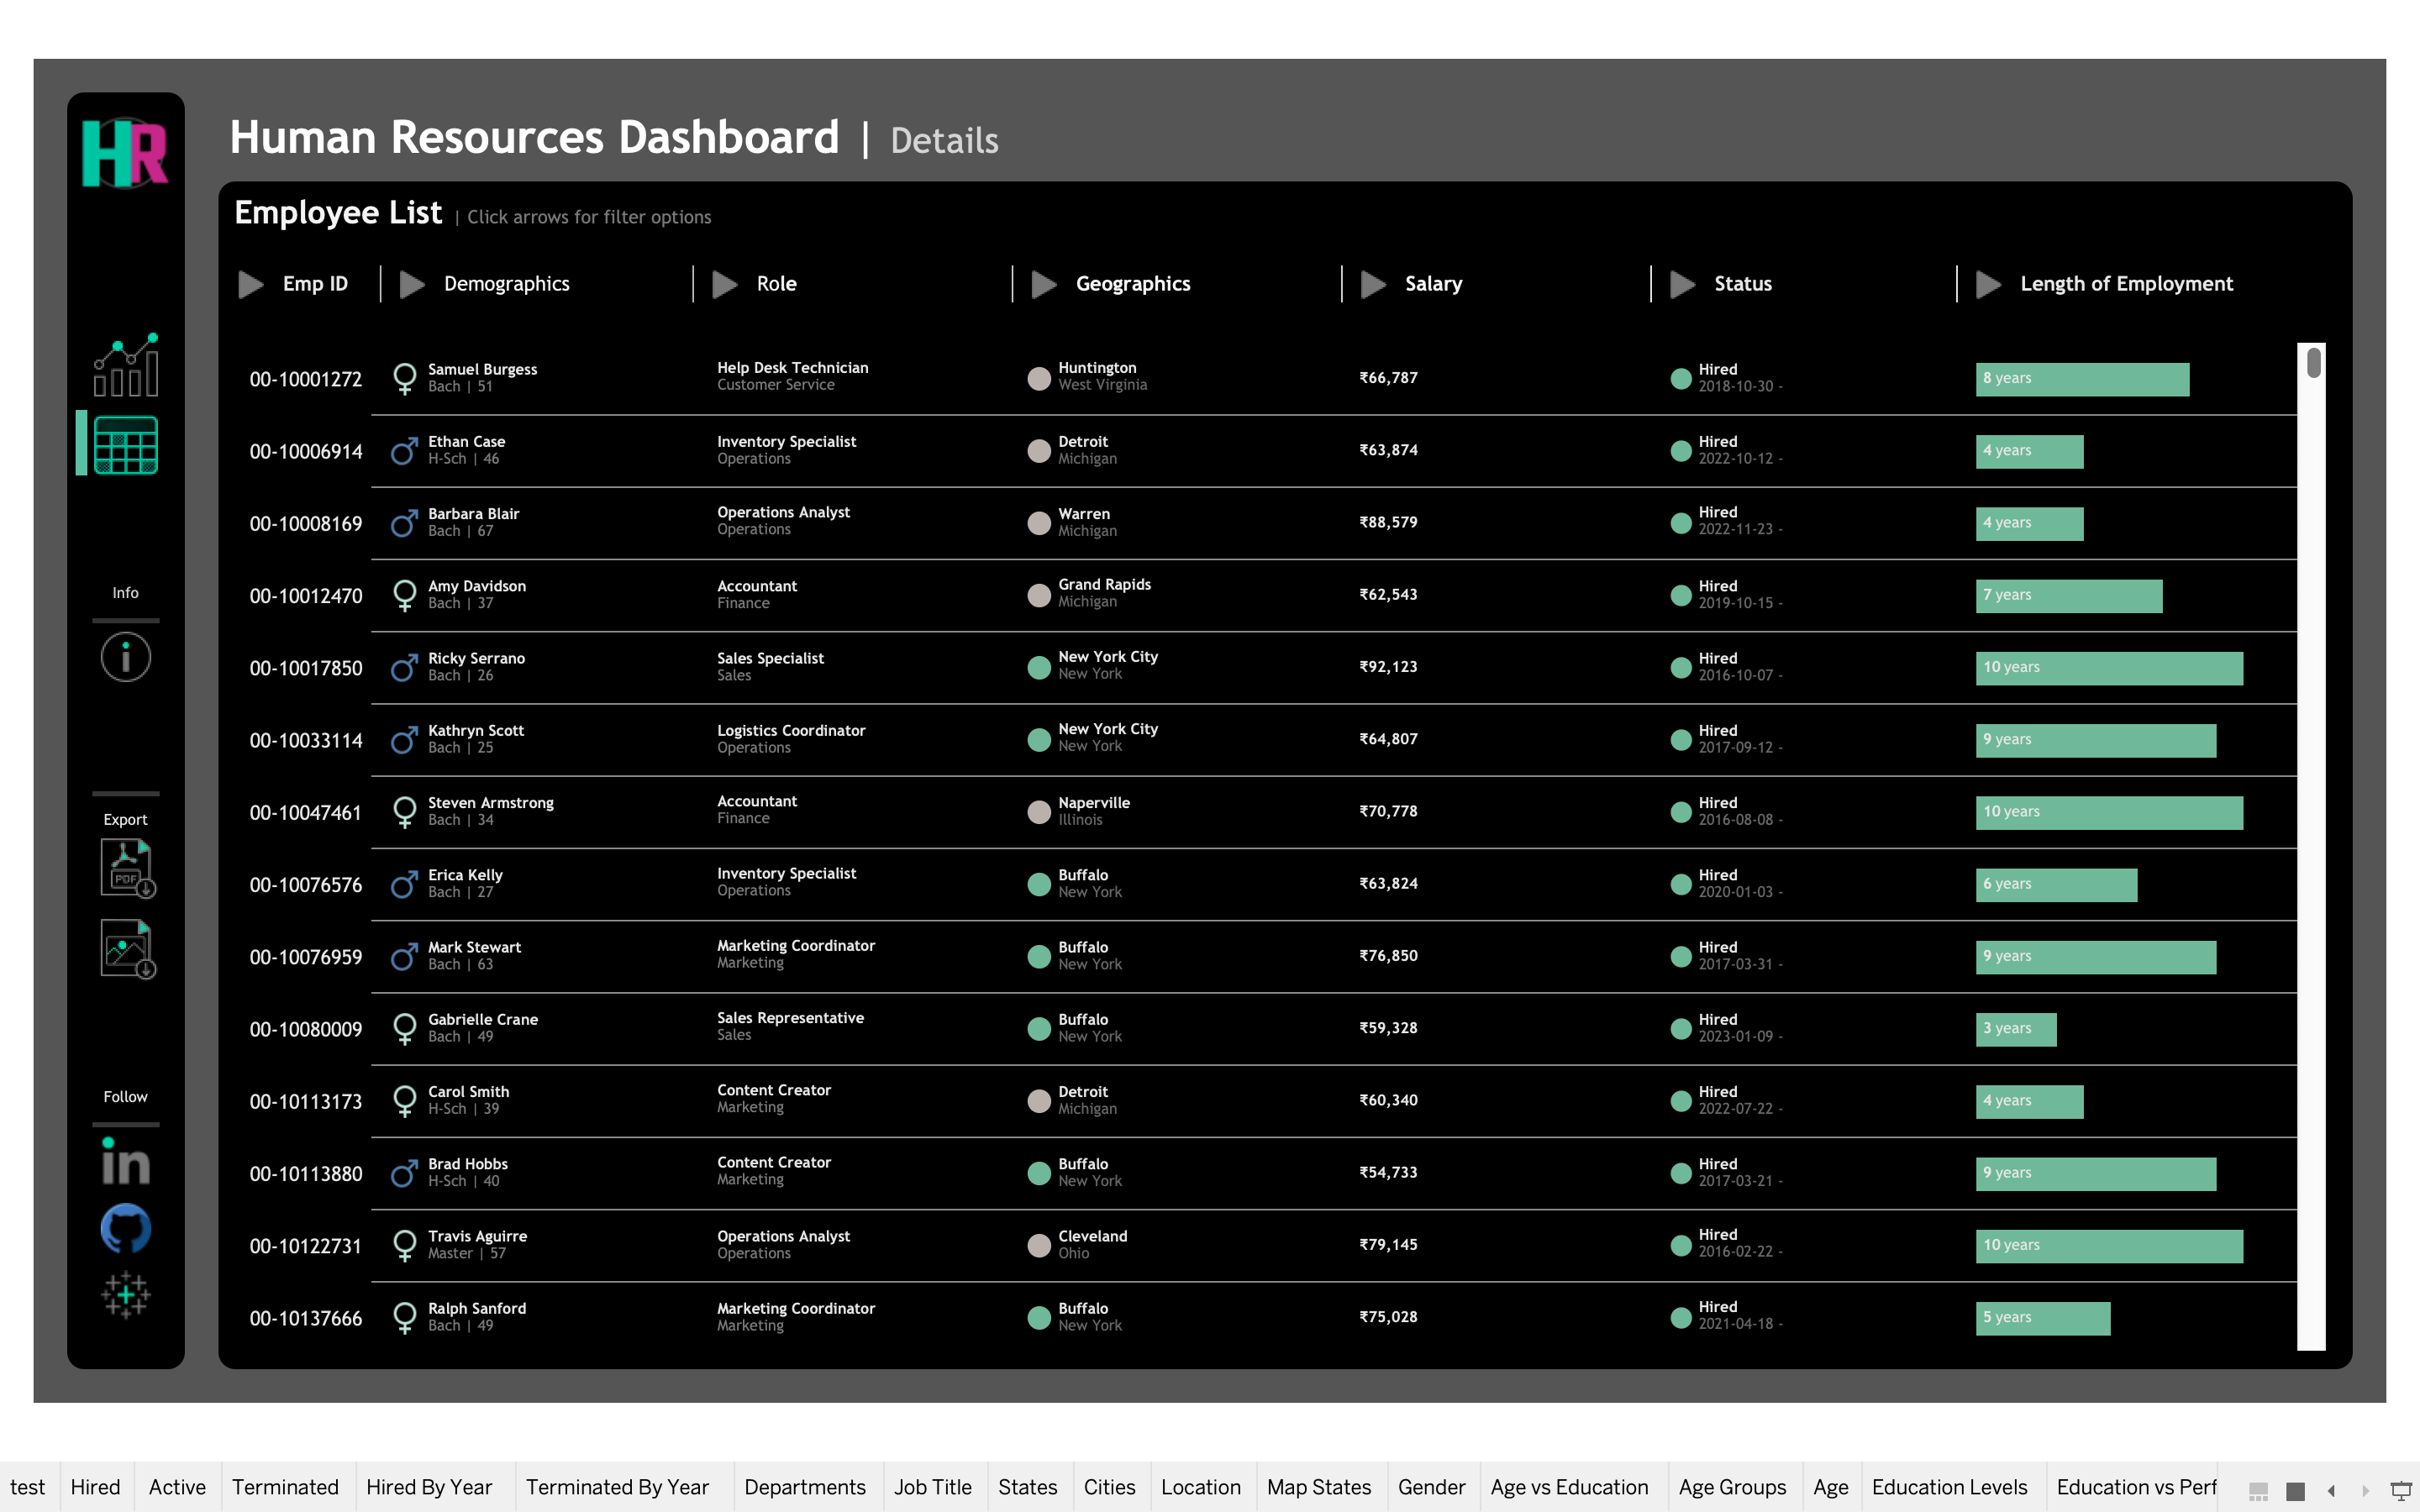

Layout of this report page (visuals, bound fields, positions):
{"tool":"tableau","page":{"name":"HR | Detailed","canvas":[1400,800],"ordinal":0},"visuals":[{"type":"image","param":"Image/Logo.png","box":[20,20,70,73]},{"type":"text","box":[110,20,673,53]},{"type":"blank","box":[783,20,597,53]},{"type":"text","box":[117,80,1256,33]},{"type":"blank","box":[20,93,70,60]},{"type":"dashboard-object","box":[117,113,25,42]},{"type":"text","box":[142,113,58,42]},{"type":"blank","box":[200,113,13,42]},{"type":"dashboard-object","box":[213,113,25,42]},{"type":"text","box":[238,113,148,42]},{"type":"blank","box":[386,113,13,42]},{"type":"dashboard-object","box":[399,113,25,42]},{"type":"text","box":[424,113,152,42]},{"type":"blank","box":[576,113,13,42]},{"type":"dashboard-object","box":[589,113,25,42]},{"type":"text","box":[614,113,158,42]},{"type":"blank","box":[772,113,13,42]},{"type":"dashboard-object","box":[785,113,25,42]},{"type":"text","box":[810,113,146,42]},{"type":"blank","box":[956,113,13,42]},{"type":"dashboard-object","box":[969,113,25,42]},{"type":"text","box":[993.9,113,144,42]},{"type":"blank","box":[1137.9,113,13,42]},{"type":"dashboard-object","box":[1150.9,113,25,42]},{"type":"text","box":[1175.9,113,197.1,42]},{"type":"filter","title":"Detailed","param":"[federated.0uamhnl0me0kdh1e9zj320g01psd].[none:Employee_ID:nk]","box":[117,137.5,83,24.5]},{"type":"filter","title":"Detailed","param":"[federated.0uamhnl0me0kdh1e9zj320g01psd].[none:Job Title:nk]","box":[399,137.5,177,12.3]},{"type":"filter","title":"Detailed","param":"[federated.0uamhnl0me0kdh1e9zj320g01psd].[none:Calculation_1759417534775302:nk]","box":[589,137.5,183,8.2]},{"type":"filter","title":"Detailed","param":"[federated.0uamhnl0me0kdh1e9zj320g01psd].[sum:Salary:qk]","box":[785,137.5,171,24.5]},{"type":"filter","title":"Detailed","param":"[federated.0uamhnl0me0kdh1e9zj320g01psd].[none:Calculation_1759417805742095:nk]","box":[969,137.5,169,8.2]},{"type":"filter","title":"Detailed","param":"[federated.0uamhnl0me0kdh1e9zj320g01psd].[none:State:nk]","box":[589,145.7,183,8.2]},{"type":"filter","title":"Detailed","param":"[federated.0uamhnl0me0kdh1e9zj320g01psd].[none:Hiredate:ok]","box":[969,145.7,169,8.2]},{"type":"filter","title":"Detailed","param":"[federated.0uamhnl0me0kdh1e9zj320g01psd].[none:Department:nk]","box":[399,149.8,177,12.2]},{"type":"filter","title":"Detailed","param":"[federated.0uamhnl0me0kdh1e9zj320g01psd].[none:City:nk]","box":[589,153.8,183,8.2]},{"type":"filter","title":"Detailed","param":"[federated.0uamhnl0me0kdh1e9zj320g01psd].[none:Termdate:ok]","box":[969,153.8,169,8.2]},{"type":"filter","title":"Detailed","param":"[federated.0uamhnl0me0kdh1e9zj320g01psd].[none:Calculation_1759418484056092:nk]","box":[213,155,173,48]},{"type":"filter","title":"Detailed","param":"[federated.0uamhnl0me0kdh1e9zj320g01psd].[sum:Calculation_1759418843271200:qk]","box":[1150.9,155,242.1,65]},{"type":"dashboard-object","box":[30,163,50,38]},{"type":"worksheet","title":"Detailed","mark":"Shape","rows":["Employee_ID"],"cols":["Calculation_1759418485145631","Calculation_1759418485145631","Calculation_1759418485145631","Calculation_1759418485145631","Calculation_1759418485145631","Calculation_1759418843271200"],"box":[117,165,1256,608]},{"type":"blank","box":[30,201,50,10]},{"type":"filter","title":"Detailed","param":"[federated.0uamhnl0me0kdh1e9zj320g01psd].[none:Gender:nk]","box":[213,203,173,48]},{"type":"blank","box":[25,209,7,39]},{"type":"dashboard-object","box":[30,211,50,38]},{"type":"blank","box":[30,249,50,60]},{"type":"filter","title":"Detailed","param":"[federated.0uamhnl0me0kdh1e9zj320g01psd].[none:Calculation_1759417709678606:nk]","box":[213,251,173,48]},{"type":"filter","title":"Detailed","param":"[federated.0uamhnl0me0kdh1e9zj320g01psd].[none:Education Level:nk]","box":[213,299,173,48]},{"type":"text","box":[30,309,50,19]},{"type":"blank","box":[30,328,50,13]},{"type":"dashboard-object","box":[30,341,50,30]},{"type":"blank","box":[30,371,50,60]},{"type":"blank","box":[30,431,50,13]},{"type":"text","box":[30,444,50,19]},{"type":"dashboard-object","box":[30,463,50,38]},{"type":"blank","box":[30,501,50,10]},{"type":"dashboard-object","box":[30,511,50,38]},{"type":"blank","box":[30,549,50,60]},{"type":"text","box":[30,609,50,19]},{"type":"blank","box":[30,628,50,13]},{"type":"image","param":"Image/contact-linkedin.png","box":[30,641,50,30]},{"type":"blank","box":[30,671,50,10]},{"type":"image","param":"Image/270798.png","box":[30,681,50,30]},{"type":"blank","box":[30,711,50,10]},{"type":"image","param":"Image/contact-public.png","box":[30,721,50,30]}]}

Visuals, with their boxes on the page's 1400x800 design canvas (x1, y1, x2, y2). These are canvas units, not pixel positions in the 2420x1512 screenshot, which may show the page scaled, cropped or inside an application window:
image: (left=20, top=20, right=90, bottom=93)
text: (left=110, top=20, right=783, bottom=73)
blank: (left=783, top=20, right=1380, bottom=73)
text: (left=117, top=80, right=1373, bottom=113)
blank: (left=20, top=93, right=90, bottom=153)
dashboard-object: (left=117, top=113, right=142, bottom=155)
text: (left=142, top=113, right=200, bottom=155)
blank: (left=200, top=113, right=213, bottom=155)
dashboard-object: (left=213, top=113, right=238, bottom=155)
text: (left=238, top=113, right=386, bottom=155)
blank: (left=386, top=113, right=399, bottom=155)
dashboard-object: (left=399, top=113, right=424, bottom=155)
text: (left=424, top=113, right=576, bottom=155)
blank: (left=576, top=113, right=589, bottom=155)
dashboard-object: (left=589, top=113, right=614, bottom=155)
text: (left=614, top=113, right=772, bottom=155)
blank: (left=772, top=113, right=785, bottom=155)
dashboard-object: (left=785, top=113, right=810, bottom=155)
text: (left=810, top=113, right=956, bottom=155)
blank: (left=956, top=113, right=969, bottom=155)
dashboard-object: (left=969, top=113, right=994, bottom=155)
text: (left=994, top=113, right=1138, bottom=155)
blank: (left=1138, top=113, right=1151, bottom=155)
dashboard-object: (left=1151, top=113, right=1176, bottom=155)
text: (left=1176, top=113, right=1373, bottom=155)
"Detailed" filter: (left=117, top=138, right=200, bottom=162)
"Detailed" filter: (left=399, top=138, right=576, bottom=150)
"Detailed" filter: (left=589, top=138, right=772, bottom=146)
"Detailed" filter: (left=785, top=138, right=956, bottom=162)
"Detailed" filter: (left=969, top=138, right=1138, bottom=146)
"Detailed" filter: (left=589, top=146, right=772, bottom=154)
"Detailed" filter: (left=969, top=146, right=1138, bottom=154)
"Detailed" filter: (left=399, top=150, right=576, bottom=162)
"Detailed" filter: (left=589, top=154, right=772, bottom=162)
"Detailed" filter: (left=969, top=154, right=1138, bottom=162)
"Detailed" filter: (left=213, top=155, right=386, bottom=203)
"Detailed" filter: (left=1151, top=155, right=1393, bottom=220)
dashboard-object: (left=30, top=163, right=80, bottom=201)
"Detailed" worksheet (Shape marks): (left=117, top=165, right=1373, bottom=773)
blank: (left=30, top=201, right=80, bottom=211)
"Detailed" filter: (left=213, top=203, right=386, bottom=251)
blank: (left=25, top=209, right=32, bottom=248)
dashboard-object: (left=30, top=211, right=80, bottom=249)
blank: (left=30, top=249, right=80, bottom=309)
"Detailed" filter: (left=213, top=251, right=386, bottom=299)
"Detailed" filter: (left=213, top=299, right=386, bottom=347)
text: (left=30, top=309, right=80, bottom=328)
blank: (left=30, top=328, right=80, bottom=341)
dashboard-object: (left=30, top=341, right=80, bottom=371)
blank: (left=30, top=371, right=80, bottom=431)
blank: (left=30, top=431, right=80, bottom=444)
text: (left=30, top=444, right=80, bottom=463)
dashboard-object: (left=30, top=463, right=80, bottom=501)
blank: (left=30, top=501, right=80, bottom=511)
dashboard-object: (left=30, top=511, right=80, bottom=549)
blank: (left=30, top=549, right=80, bottom=609)
text: (left=30, top=609, right=80, bottom=628)
blank: (left=30, top=628, right=80, bottom=641)
image: (left=30, top=641, right=80, bottom=671)
blank: (left=30, top=671, right=80, bottom=681)
image: (left=30, top=681, right=80, bottom=711)
blank: (left=30, top=711, right=80, bottom=721)
image: (left=30, top=721, right=80, bottom=751)
